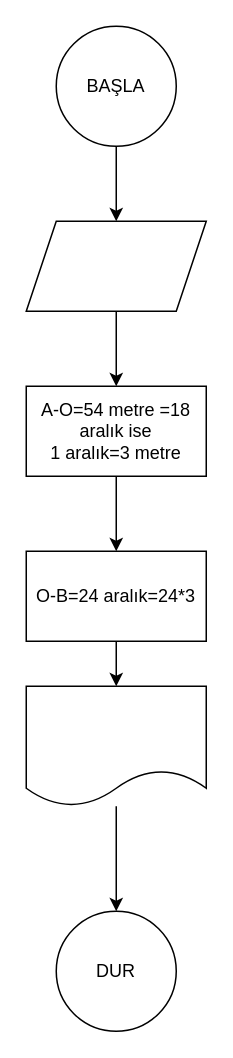
This 233x1058 diagram has some shape labels left out. The shapes that lost their labels are listed below. From the top down, each one's centre as x and y in pixels, then its label:
At pixel 115 265: "r=5 birim her birim =5 parça".
At pixel 115 745: "72metre".
